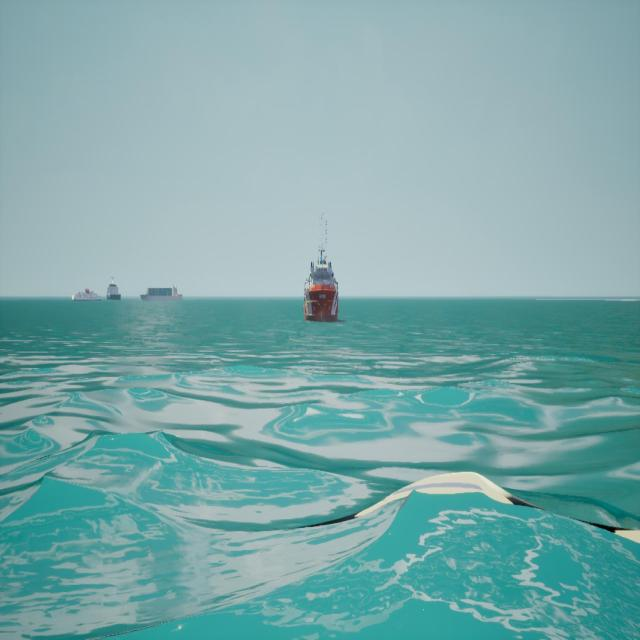tug boat: (304, 216, 342, 324)
